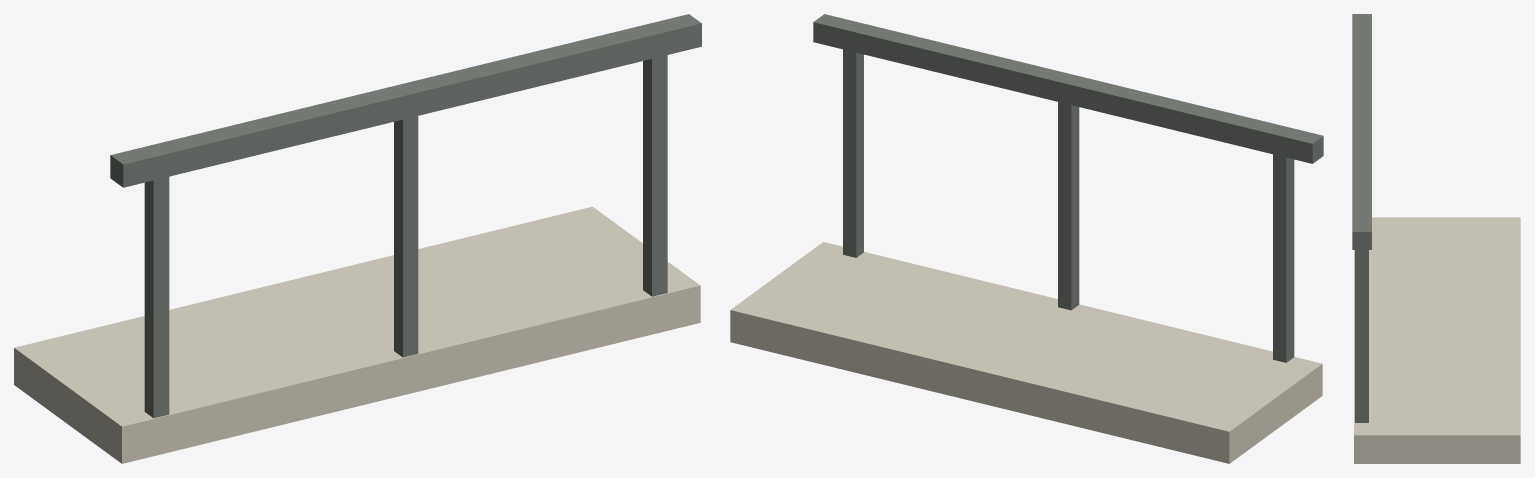
File: balcony-lod1.glb
The picture shows the model from 3 angles, left to right: view 1: azimuth 30°, elevation 25°; view 2: azimuth 150°, elevation 25°; view 3: azimuth 270°, elevation 25°; orthographic projection. The views are drawn at different scales.
Parts seen in each view (by area): view 1: slab, rail_top, bar_0, bar_1, bar_2; view 2: slab, rail_top, bar_1, bar_0, bar_2; view 3: slab, rail_top, bar_2.
Boxes of the visible parts, left/top/right/bottom form: slab: left=14, top=206, right=700, bottom=463; rail_top: left=110, top=14, right=701, bottom=187; bar_0: left=144, top=176, right=169, bottom=418; bar_1: left=394, top=116, right=418, bottom=357; bar_2: left=643, top=55, right=667, bottom=296; slab: left=730, top=242, right=1322, bottom=463; rail_top: left=813, top=14, right=1323, bottom=163; bar_1: left=1058, top=102, right=1079, bottom=310; bar_0: left=1273, top=154, right=1294, bottom=362; bar_2: left=843, top=49, right=863, bottom=257; slab: left=1354, top=217, right=1520, bottom=463; rail_top: left=1352, top=14, right=1371, bottom=249; bar_2: left=1355, top=250, right=1368, bottom=422.
Size of the model in its own units: 1.3 by 0.645 by 0.425.
